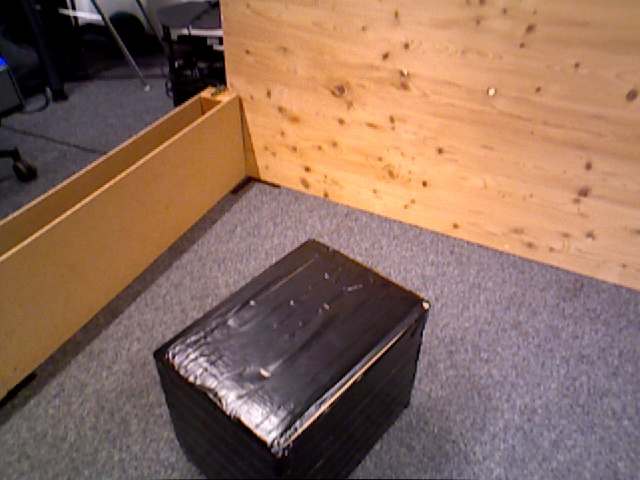push: (165, 241, 429, 480)
